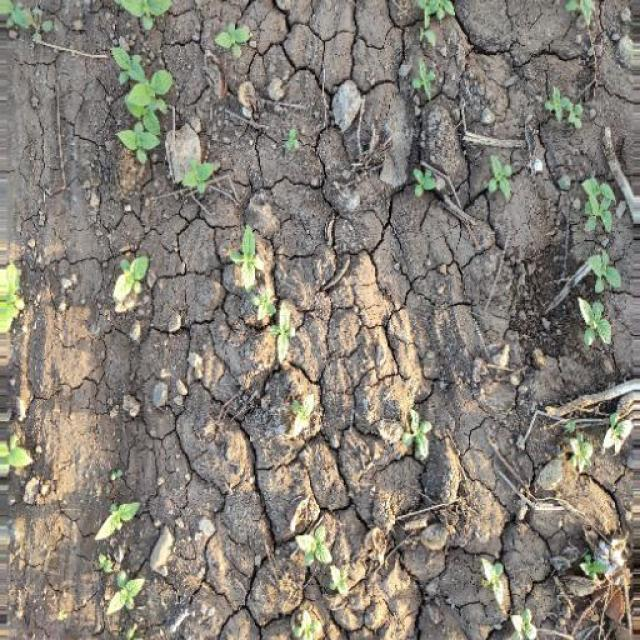weed: (81, 39, 238, 209), (558, 162, 618, 386), (225, 229, 314, 369), (91, 496, 150, 629), (290, 519, 371, 605), (403, 146, 518, 199), (102, 252, 160, 316), (542, 78, 588, 134)
